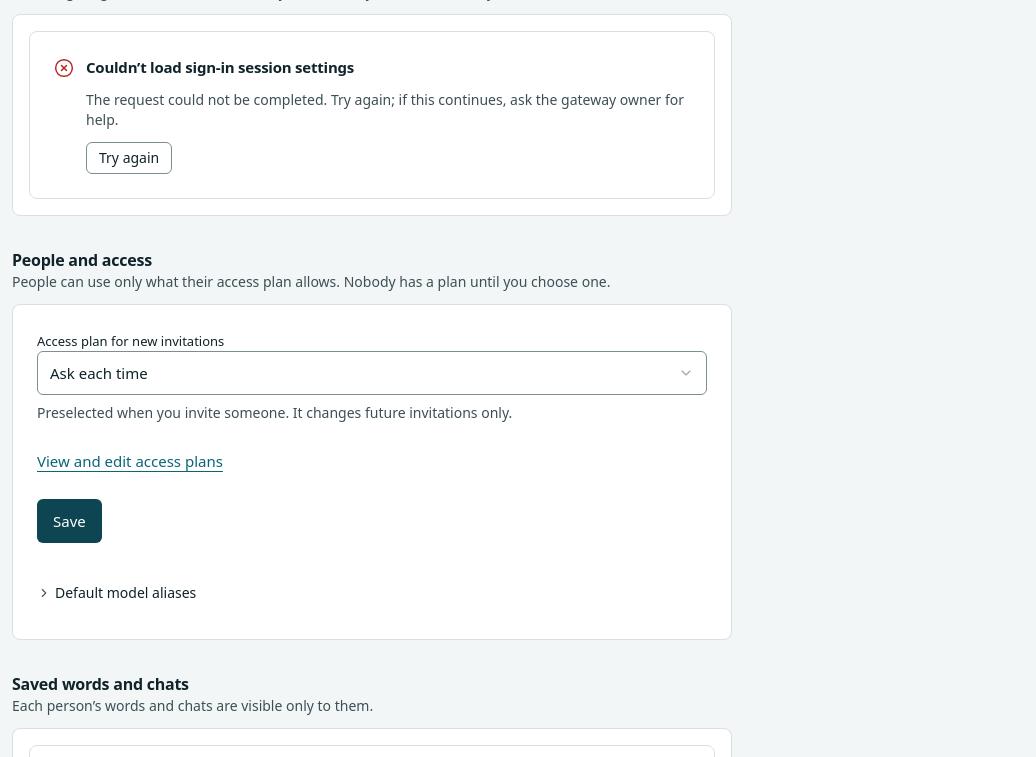
it: starts at Ask each time and offers no built-in or None plan
The image size is (1036, 757).
(page scrolled)
Click the dropdown named "Access plan for new invitations": (99, 373) [37,351,707,395]
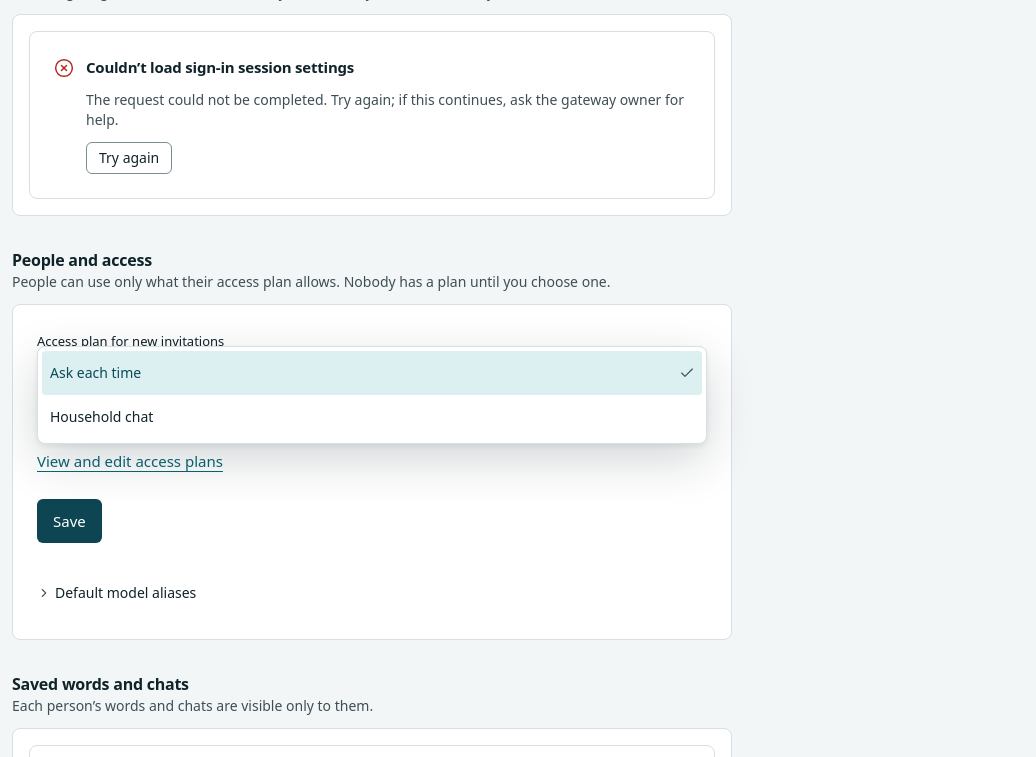
Result: the options read "Ask each time", "Household chat", in this order at [42,351,702,395]; [50,407,153,426]
